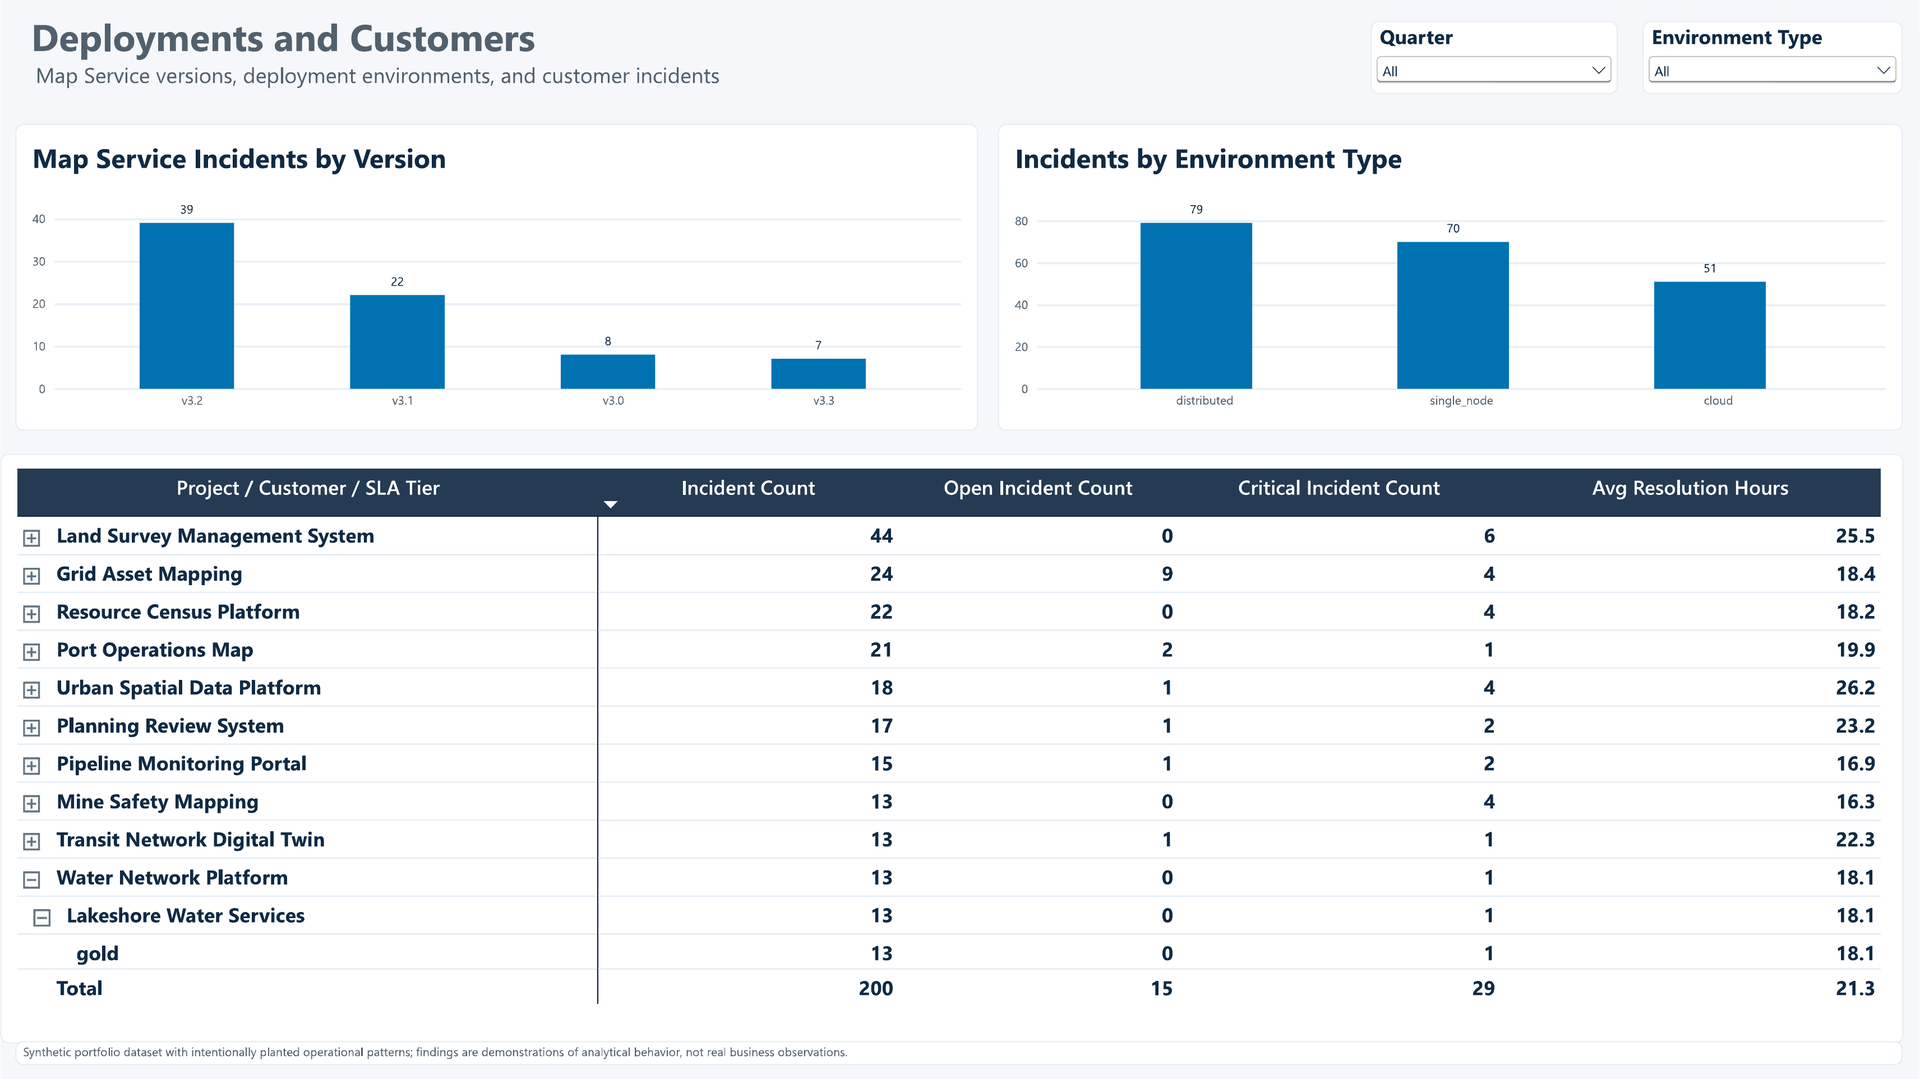

This screenshot's page, from the dashboard's own definition file:
{"tool":"powerbi","page":{"name":"Deployments & customers","canvas":[1920,1080],"ordinal":2},"visuals":[{"type":"slicer","fields":{"Values":["dim_date.quarter"]},"box":[1370.5,21.3,247.2,72.5],"z":1000},{"type":"slicer","fields":{"Values":["dim_deployment.env_type"]},"box":[1643.3,21.3,260,72.5],"z":2000},{"type":"clusteredColumnChart","title":"Map Service Incidents by Version","fields":{"Category":["dim_deployment.version"],"Y":["_Measures.Incident Count"]},"box":[14.9,123.6,963.4,306.9],"z":4000},{"type":"clusteredColumnChart","title":"Incidents by Environment Type","fields":{"Category":["dim_deployment.env_type"],"Y":["_Measures.Incident Count"]},"box":[997.5,123.6,905.9,306.9],"z":5000},{"type":"pivotTable","fields":{"Rows":["dim_project.project_name","dim_project.customer_name","dim_project.sla_tier"],"Values":["_Measures.Incident Count","_Measures.Open Incident Count","_Measures.Critical Incident Count","_Measures.Avg Resolution Hours"]},"box":[0,454.2,1903.8,589.9],"z":6000},{"type":"textbox","box":[0,10.7,722.6,83.1],"z":6001},{"type":"textbox","box":[14.9,1042.3,1888.5,23.4],"z":6002}]}

Visuals, with their boxes in screenshot pixels (x1, y1, x2, y2), scaled from the page's 1920x1080 canvas onto the 1920x1079 screenshot:
slicer - dim_date.quarter: {"x1": 1370, "y1": 21, "x2": 1618, "y2": 94}
slicer - dim_deployment.env_type: {"x1": 1643, "y1": 21, "x2": 1903, "y2": 94}
"Map Service Incidents by Version" clusteredColumnChart: {"x1": 15, "y1": 123, "x2": 978, "y2": 430}
"Incidents by Environment Type" clusteredColumnChart: {"x1": 998, "y1": 123, "x2": 1903, "y2": 430}
pivotTable - dim_project.project_name x dim_project.customer_name: {"x1": 0, "y1": 454, "x2": 1904, "y2": 1043}
textbox: {"x1": 0, "y1": 11, "x2": 723, "y2": 94}
textbox: {"x1": 15, "y1": 1041, "x2": 1903, "y2": 1065}
